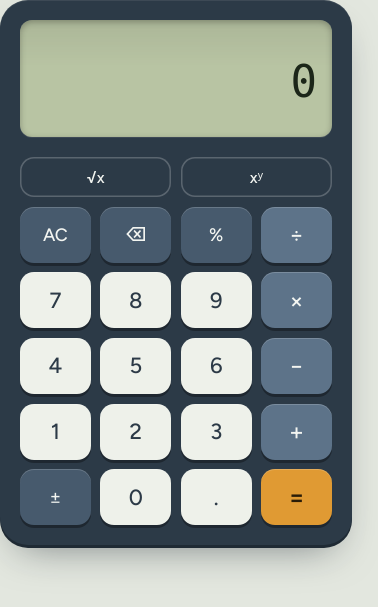
it: <Calculator /> › reports an unreachable backend
This screenshot has width=378, height=607.
What coordinates should you click on to do the following:
click the button "1"
I would click on:
 (55, 432)
Its box is [20,404,91,460].
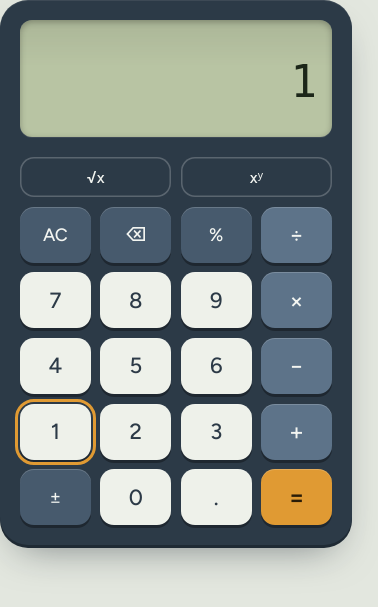
What coordinates should you click on to do the following:
click the button named "Add"
I would click on:
 (297, 432)
Its box is [261,404,332,460].
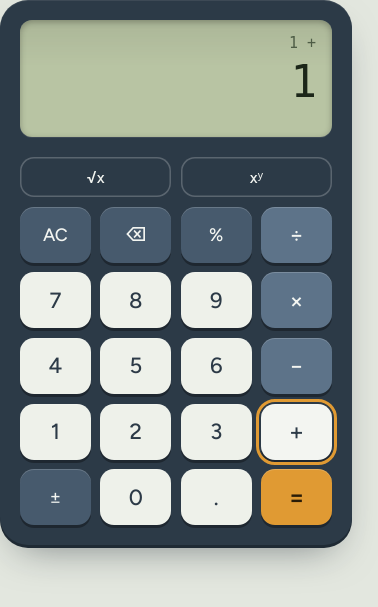
What coordinates should you click on to do the following:
click the button "1"
I would click on:
 (55, 432)
Its box is [20,404,91,460].
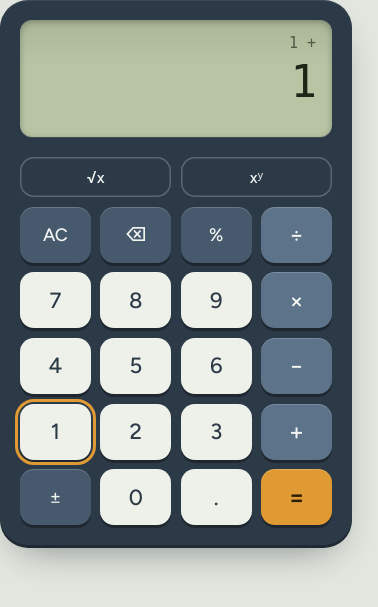
What coordinates should you click on to do the following:
click the button named "Equals"
I would click on:
 (297, 497)
Its box is [261,469,332,525].
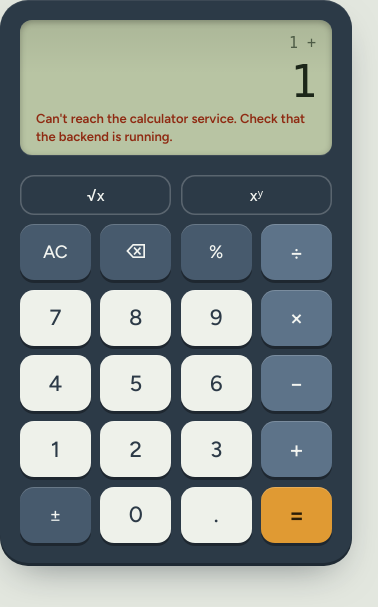
Result: the message shows "Can't reach the calculator service" at [36,111,305,144]
